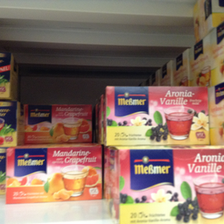tea: (108, 145, 224, 221), (104, 85, 209, 144), (6, 144, 104, 201), (21, 102, 94, 144)
